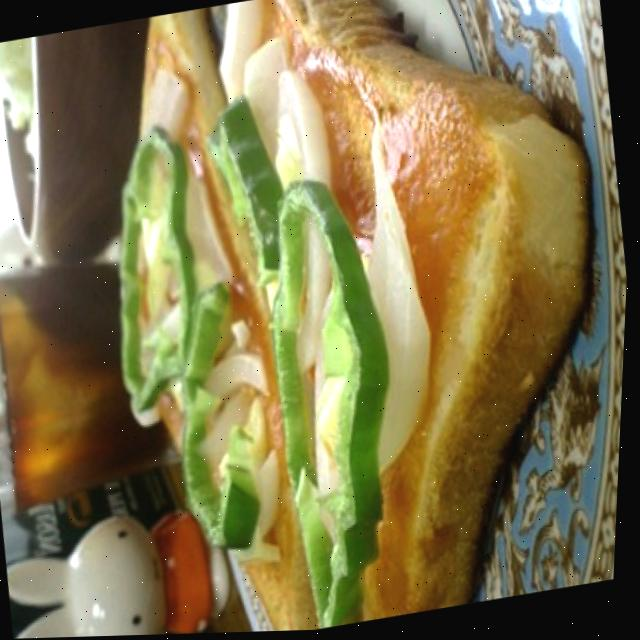面包点心: (52, 0, 638, 638)
